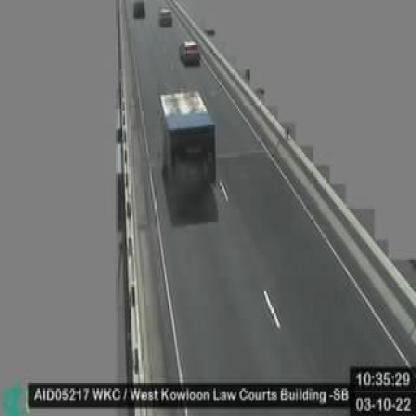Car: (178, 40, 202, 66), (157, 5, 173, 26), (131, 0, 146, 16)
Truck: (157, 88, 216, 191)
